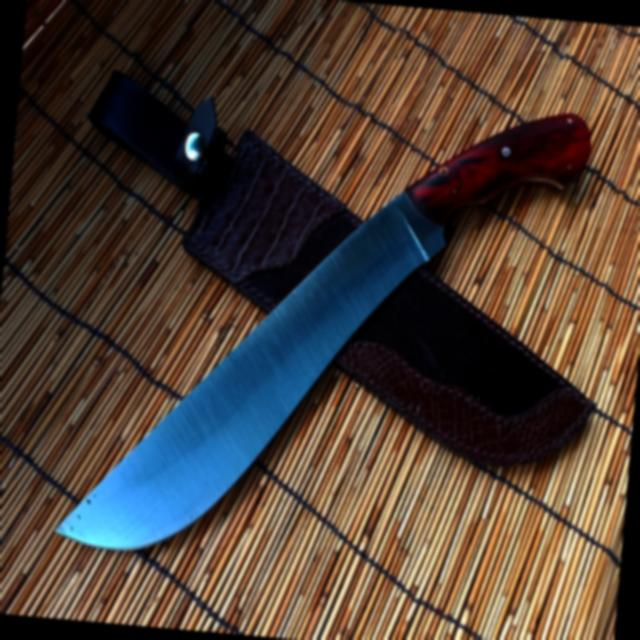eto: (48, 104, 615, 563)
